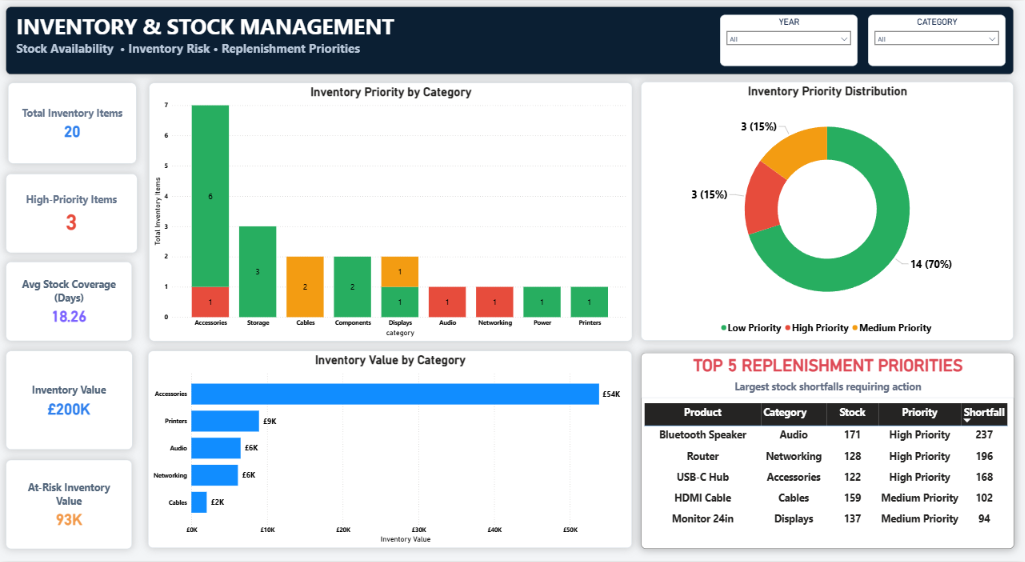

This screenshot's page, from the dashboard's own definition file:
{"tool":"powerbi","page":{"name":"Inventory & Stock Management","canvas":[2050,1120],"ordinal":4},"visuals":[{"type":"textbox","box":[12.5,12.5,2015,135],"z":0},{"type":"slicer","title":"YEAR","fields":{"Values":["core purchases.po_date.Variation.Date Hierarchy.Year"]},"box":[1440,27.5,275,102.5],"z":1000},{"type":"cardVisual","fields":{"Data":["core inventory.Critical Items"]},"box":[12,346,262,158],"z":2000},{"type":"cardVisual","fields":{"Data":["core inventory.Average Stock Coverage"]},"box":[12,522,252,158],"z":3000},{"type":"cardVisual","fields":{"Data":["core inventory.Inventory Value"]},"box":[12.5,700,252.5,197.5],"z":4000},{"type":"cardVisual","fields":{"Data":["core inventory.Total Inventory Items"]},"box":[16.7,164.3,257.1,161.9],"z":5000},{"type":"columnChart","title":"Inventory Priority by Category","fields":{"Category":["core products.category"],"Y":["core inventory.Total Inventory Items"],"Series":["core inventory.Reorder Priority"]},"box":[297.6,164.3,966.7,516.7],"z":6000},{"type":"clusteredBarChart","title":"Inventory Value by Category","fields":{"Category":["core products.category"],"Y":["core inventory.Inventory Value"]},"box":[296,700,968,394],"z":7000},{"type":"tableEx","title":"TOP 5 REPLENISHMENT PRIORITIES","fields":{"Values":["core products.product_name","core products.category","core inventory.Current Stock Units","core inventory.Reorder Priority","core inventory.Stock Shortfall"]},"box":[1282,704,746,392],"z":8000},{"type":"slicer","title":"CATEGORY","fields":{"Values":["core products.category"]},"box":[1735,27.5,275,102.5],"z":9000},{"type":"donutChart","title":"Inventory Priority Distribution","fields":{"Y":["core inventory.Total Inventory Items"],"Category":["core inventory.Reorder Priority"]},"box":[1282.5,162.5,745,517.5],"z":10000},{"type":"cardVisual","fields":{"Data":["core inventory.Stock Value at Risk"]},"box":[12,918,252,178],"z":11000}]}

Visuals, with their boxes in screenshot pixels (x1, y1, x2, y2), scaled from the page's 2050x1120 canvas onto the 1025x562 screenshot:
textbox: BBox(6, 6, 1014, 74)
"YEAR" slicer: BBox(720, 14, 858, 65)
cardVisual - core inventory.Critical Items: BBox(6, 174, 137, 253)
cardVisual - core inventory.Average Stock Coverage: BBox(6, 262, 132, 341)
cardVisual - core inventory.Inventory Value: BBox(6, 351, 132, 450)
cardVisual - core inventory.Total Inventory Items: BBox(8, 82, 137, 164)
"Inventory Priority by Category" columnChart: BBox(149, 82, 632, 342)
"Inventory Value by Category" clusteredBarChart: BBox(148, 351, 632, 549)
"TOP 5 REPLENISHMENT PRIORITIES" tableEx: BBox(641, 353, 1014, 550)
"CATEGORY" slicer: BBox(868, 14, 1005, 65)
"Inventory Priority Distribution" donutChart: BBox(641, 82, 1014, 341)
cardVisual - core inventory.Stock Value at Risk: BBox(6, 461, 132, 550)
